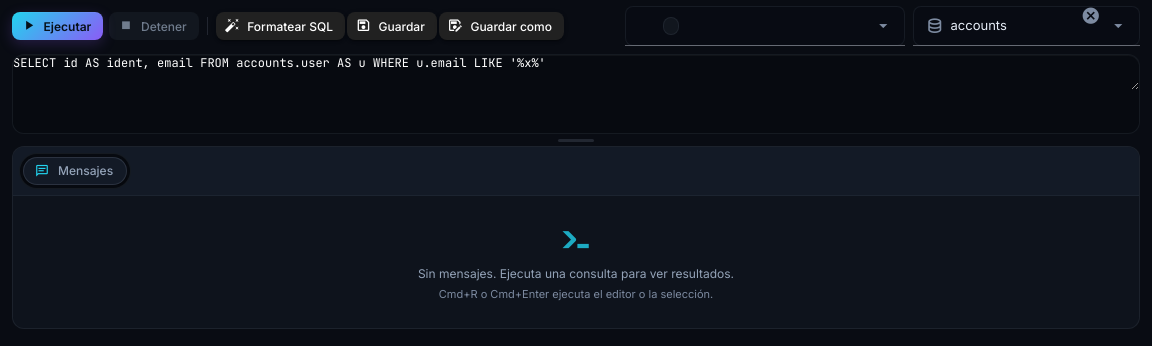
Test: QueryView › editable results (one base table with its primary key) › shows a join as read-only without asking for the table structure
Click the button with test id "run". click: (58, 26)
box: [12, 12, 103, 40]
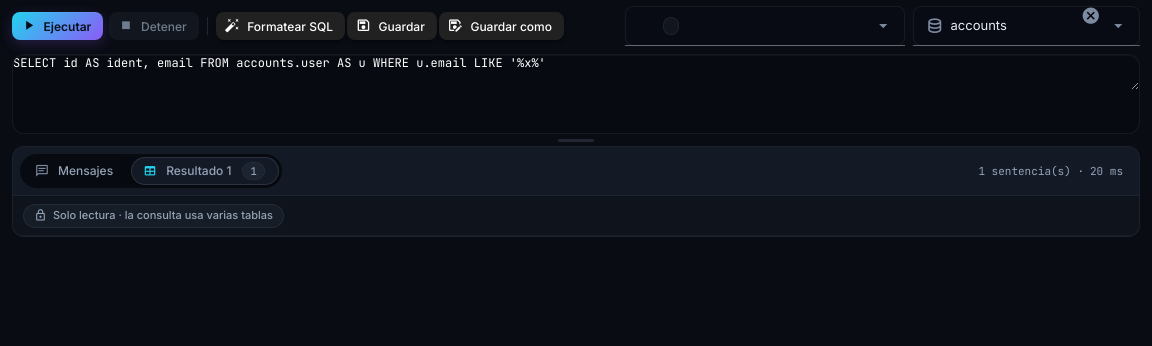
Check: the message with test id "editability" reads "Solo lectura · la consulta usa varias tablas", box [53, 208, 273, 222]
